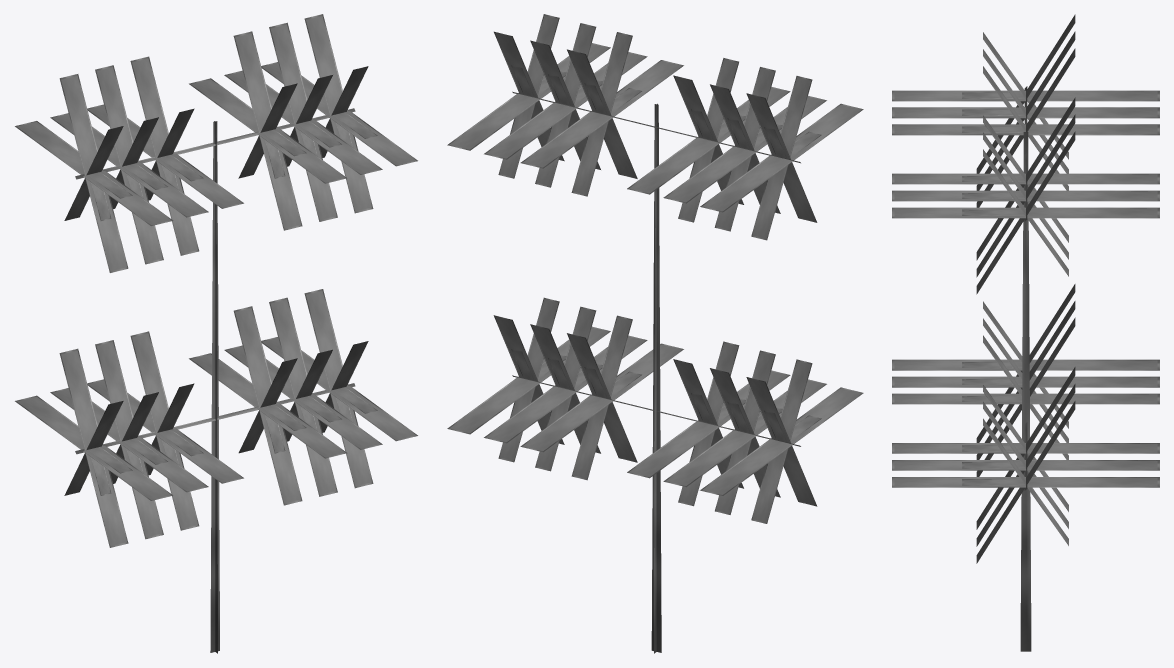
File: antenna_4.obj
The picture shows the model from 3 angles, left to right: view 1: azimuth 30°, elevation 25°; view 2: azimuth 150°, elevation 25°; view 3: azimuth 270°, elevation 25°; orthographic projection. The views are drawn at different scales.
Parts seen in each view (by area): view 1: antenna_4; view 2: antenna_4; view 3: antenna_4.
Part boxes in pixels (box(x1,y1,x2,y2)): antenna_4: box(15, 14, 417, 653); antenna_4: box(447, 14, 863, 653); antenna_4: box(892, 14, 1159, 651).
Size of the model in its own units: 1.09 by 2.2 by 0.928.
Materials: 1 (1 with a texture image).
